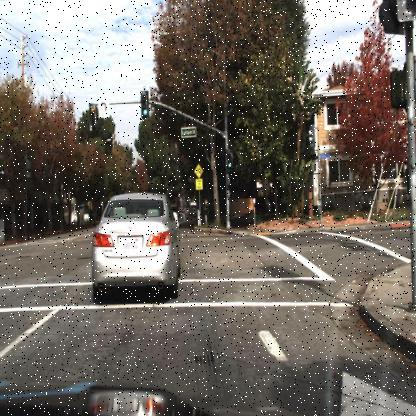car: (90, 190, 184, 298)
trafficLight: (141, 94, 151, 127)
trafficLight-Green: (224, 152, 235, 180)
trafficLight-RedLeft: (86, 109, 98, 142)
